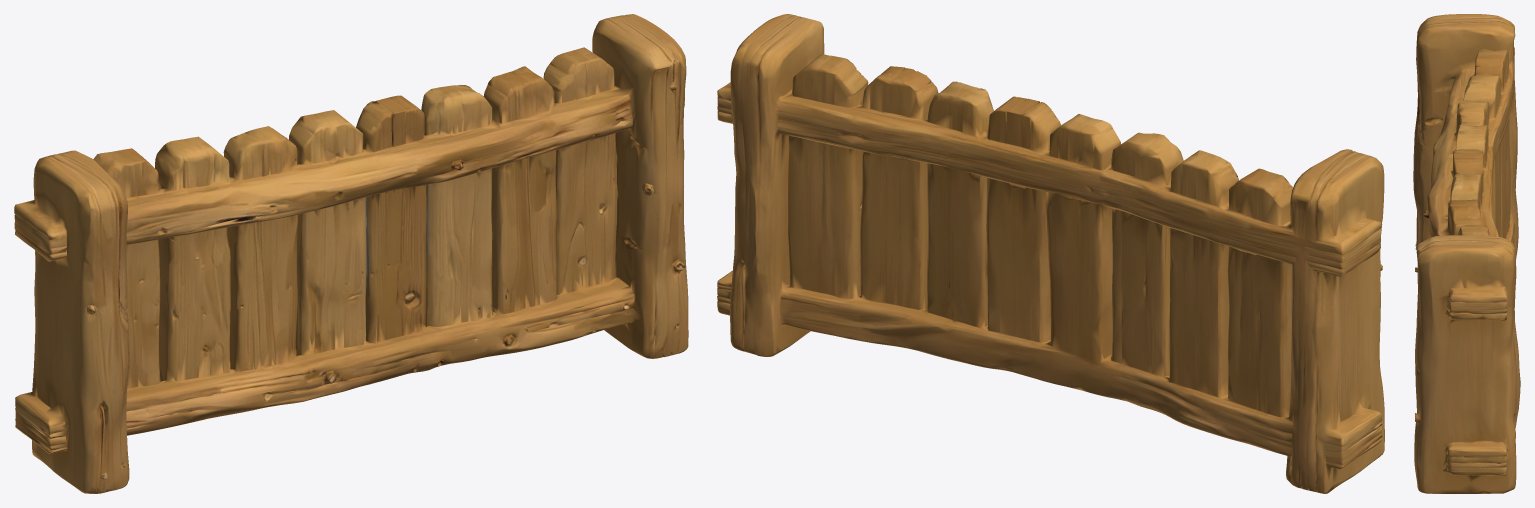
The model's file is fence.glb.
3 renders of one model, left to right at view 1: azimuth 30°, elevation 25°; view 2: azimuth 150°, elevation 25°; view 3: azimuth 270°, elevation 25°, orthographic. The views are drawn at different scales.
Visible parts, largest first — view 1: tripo_node_cdc87bc0-d124-4d92-a556-d156163a3e0f; view 2: tripo_node_cdc87bc0-d124-4d92-a556-d156163a3e0f; view 3: tripo_node_cdc87bc0-d124-4d92-a556-d156163a3e0f.
Boxes of the visible parts, x1,y1,x2,y2 form: tripo_node_cdc87bc0-d124-4d92-a556-d156163a3e0f: (14, 14, 688, 493); tripo_node_cdc87bc0-d124-4d92-a556-d156163a3e0f: (717, 14, 1384, 493); tripo_node_cdc87bc0-d124-4d92-a556-d156163a3e0f: (1413, 14, 1520, 493).
Bounding box in the file's own units: 2.19 × 1 × 0.3972.
1 material, 1 textured.
